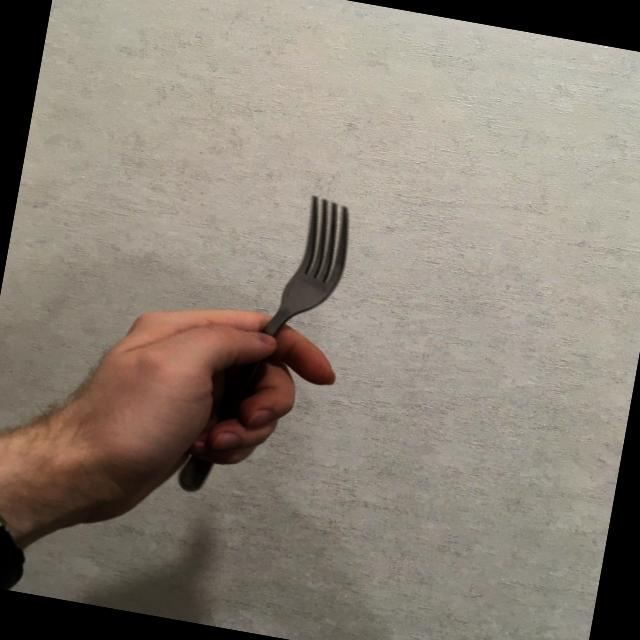fork: (172, 179, 356, 512)
